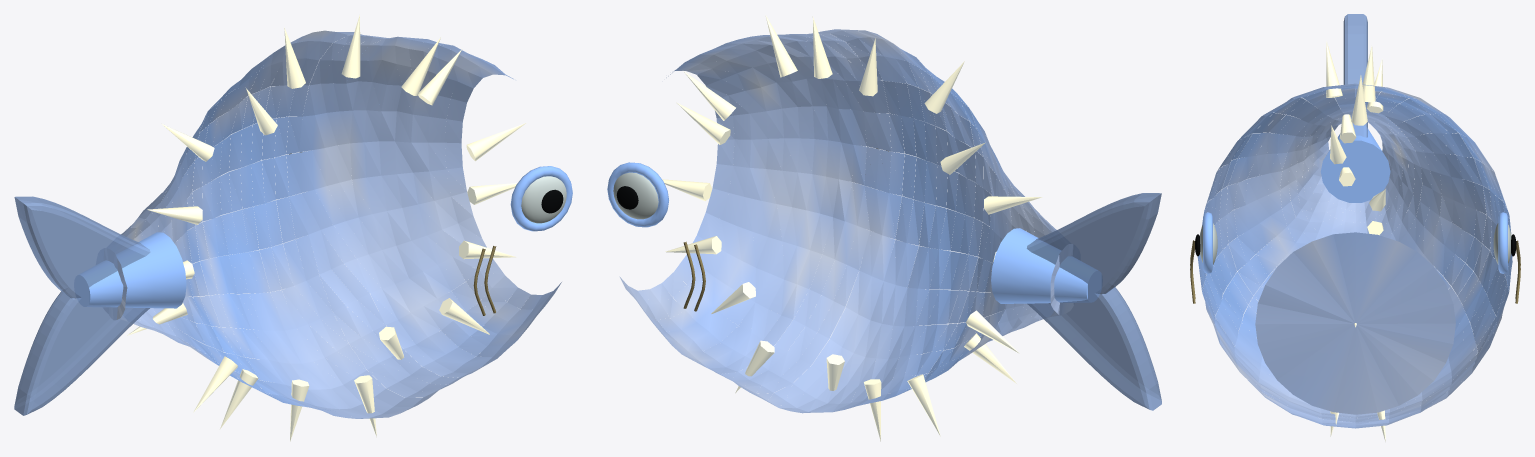
The model's file is blue-puffer.glb.
3 renders of one model, left to right at view 1: azimuth 30°, elevation 25°; view 2: azimuth 150°, elevation 25°; view 3: azimuth 270°, elevation 25°, orthographic. The views are drawn at different scales.
Visible parts, largest first — view 1: body, tail_fin, spine (×15), tail_peduncle, eye_socket, eye; view 2: body, tail_fin, spine (×14), tail_peduncle, eye_socket, eye; view 3: body, tail_peduncle, spine (×5), tail_fin, eye_socket (×2).
Part boxes in pixels (x1,y1,x2,y2): body: [103, 30, 561, 418]; tail_fin: [14, 196, 150, 415]; spine (×15): [147, 15, 525, 441]; tail_peduncle: [75, 232, 186, 308]; eye_socket: [510, 166, 572, 231]; eye: [521, 176, 566, 223]; body: [619, 29, 1073, 413]; tail_fin: [1026, 193, 1161, 410]; spine (×14): [662, 15, 1042, 441]; tail_peduncle: [991, 228, 1101, 303]; eye_socket: [607, 162, 668, 227]; eye: [613, 172, 658, 219]; body: [1197, 83, 1512, 428]; tail_peduncle: [1320, 124, 1390, 202]; spine (×5): [1326, 41, 1375, 164]; tail_fin: [1343, 14, 1367, 137]; eye_socket (×2): [1203, 212, 1507, 273].
Size of the model in its own units: 2.16 by 1.67 by 1.37.
